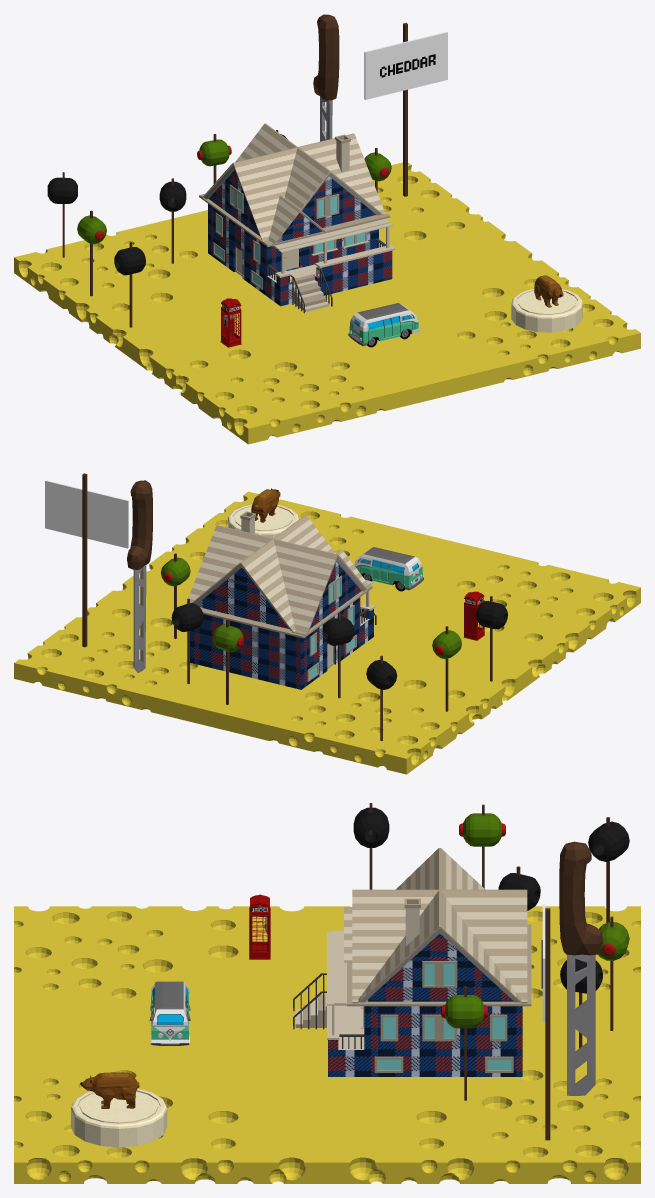
3 views of the same model, one above another, from view 1: azimuth 30°, elevation 25°; view 2: azimuth 150°, elevation 25°; view 3: azimuth 270°, elevation 25° (orthographic). The views are drawn at different scales.
Visible parts, largest first — view 1: Cube.022, Cube.171, Cube.023, Cylinder.016, Cube.024, VEHICLES_VAN, Sphere.017, OBJRANDOM_PHONEBOOTH, Sphere.016, Sphere.020, Sphere.018, Sphere.022 (+2 smaller); view 2: Cube.022, Cube.171, Cube.023, Cube.024, VEHICLES_VAN, Cylinder.016, Sphere.017, Sphere.020, Sphere.021, Sphere.016, Sphere.018, Sphere.022 (+3 smaller); view 3: Cube.022, Cube.171, Cube.024, Cylinder.016, VEHICLES_VAN, Cube.023, Sphere.019, Sphere.016, ANIMAL_OSO, Sphere.018, Sphere.017, OBJRANDOM_PHONEBOOTH (+3 smaller).
Part boxes in pixels (x1,y1,x2,y2): Cube.022: (14, 162, 640, 444); Cube.171: (199, 123, 395, 313); Cube.023: (364, 23, 447, 196); Cylinder.016: (511, 288, 582, 332); Cube.024: (313, 14, 339, 141); VEHICLES_VAN: (348, 303, 420, 347); Sphere.017: (114, 242, 145, 327); OBJRANDOM_PHONEBOOTH: (220, 298, 241, 347); Sphere.016: (47, 172, 77, 257); Sphere.020: (159, 178, 186, 263); Sphere.018: (77, 210, 106, 296); Sphere.022: (197, 134, 231, 183); Cube.022: (14, 491, 640, 774); Cube.171: (184, 511, 376, 689); Cube.023: (45, 473, 128, 647); Cube.024: (127, 480, 152, 672); VEHICLES_VAN: (354, 547, 423, 591); Cylinder.016: (228, 504, 298, 538); Sphere.017: (476, 596, 507, 681); Sphere.020: (322, 612, 354, 698); Sphere.021: (171, 598, 203, 683); Sphere.016: (366, 655, 397, 741); Sphere.018: (432, 626, 461, 711); Sphere.022: (212, 619, 244, 704); Cube.022: (14, 906, 640, 1183); Cube.171: (293, 848, 531, 1076); Cube.024: (559, 841, 602, 1095); Cylinder.016: (71, 1088, 167, 1147); VEHICLES_VAN: (149, 981, 190, 1045); Cube.023: (541, 904, 550, 1140); Sphere.019: (441, 986, 487, 1100); Sphere.016: (588, 817, 629, 922); ANIMAL_OSO: (80, 1072, 139, 1108); Sphere.018: (459, 804, 505, 888); Sphere.017: (353, 803, 389, 889); OBJRANDOM_PHONEBOOTH: (249, 894, 270, 959).
Bounding box in the file's own units: 3917 × 2108 × 4000.
41 materials, 4 textured.
